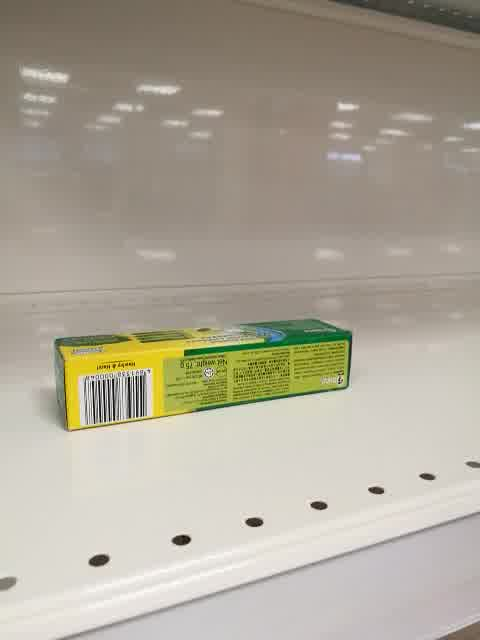toothpaste: (53, 318, 353, 432)
